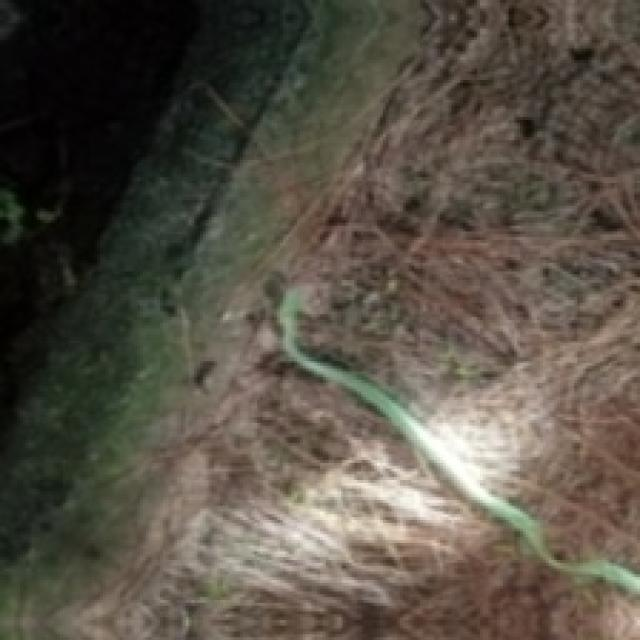north ph temple pitviper: (277, 289, 637, 594)
